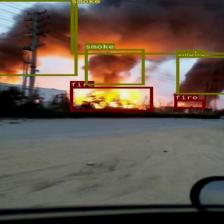fire: (70, 86, 152, 111), (174, 99, 205, 109)
smoke: (70, 0, 224, 54), (0, 0, 77, 76), (84, 49, 144, 85), (175, 56, 224, 94)
